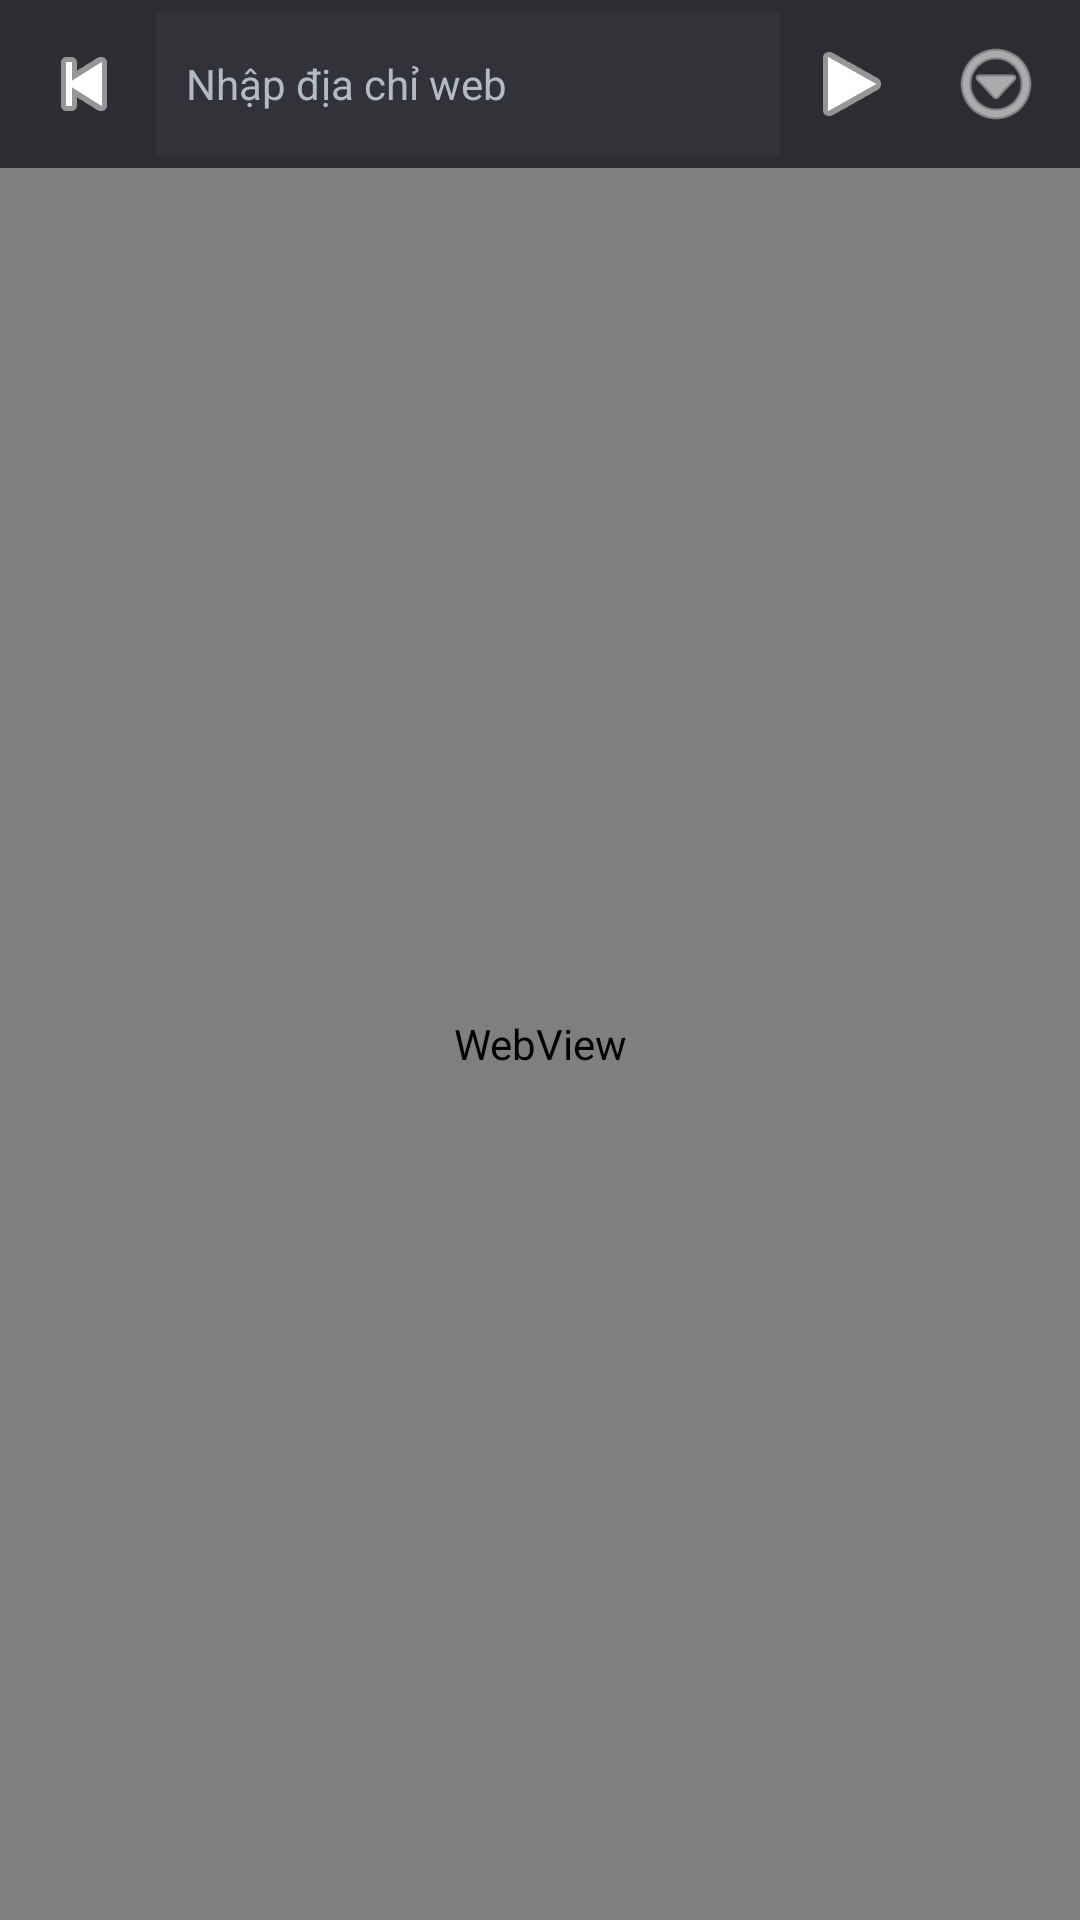

Named icons in this screenshot (1080px×1920px) and their bounding boxes, box(x1, y1, x2, y2):
Mở địa chỉ web: box(823, 52, 881, 116)
Tùy chọn trình duyệt: box(960, 49, 1032, 120)
